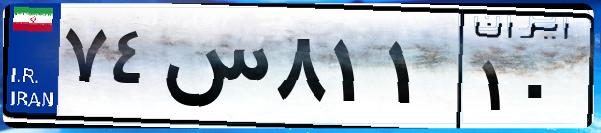0: (525, 38, 570, 115)
1: (385, 28, 445, 110), (330, 28, 385, 110), (475, 38, 525, 113)
4: (110, 28, 158, 98)
7: (57, 26, 110, 100)
8: (270, 28, 330, 110)
س: (158, 20, 270, 120)
